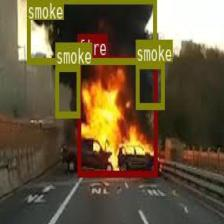fire: (76, 56, 156, 175)
smoke: (26, 0, 156, 64), (135, 61, 164, 108), (54, 65, 80, 117)
